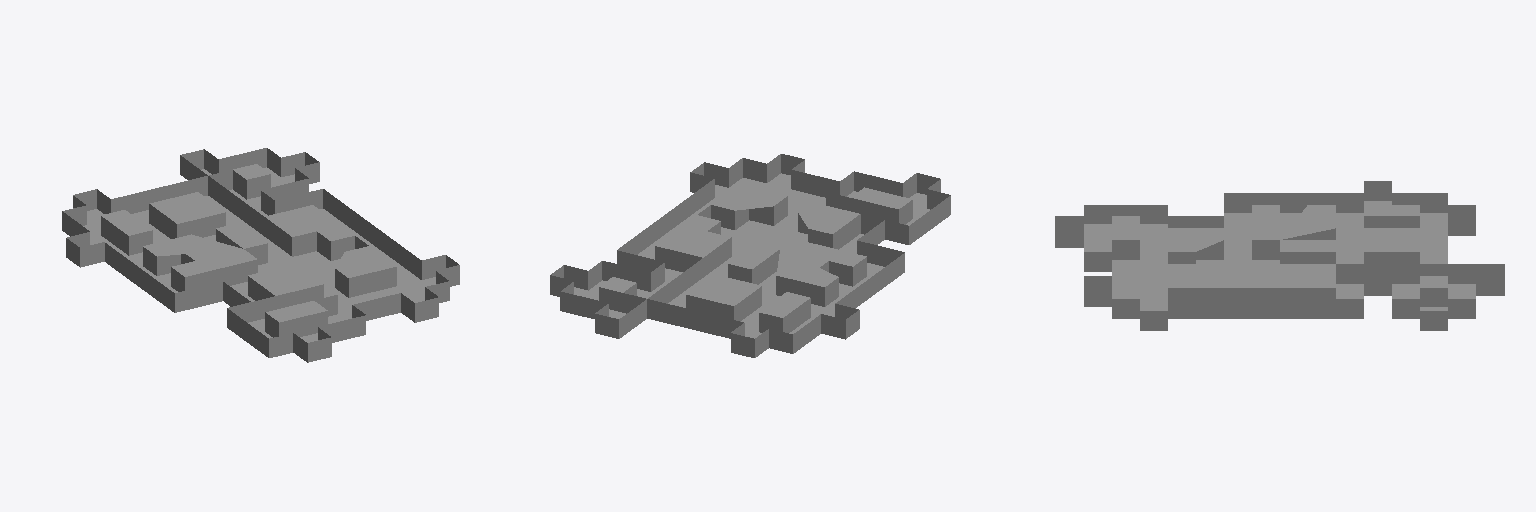
File: InteriorEnvironment.obj
3 renders of one model, left to right at view 1: azimuth 30°, elevation 25°; view 2: azimuth 150°, elevation 25°; view 3: azimuth 270°, elevation 25°, orthographic.
Parts seen in each view (by area): view 1: Plane; view 2: Plane; view 3: Plane.
Boxes of the visible parts, x1,y1,x2,y2 form: Plane: [62, 148, 459, 362]; Plane: [550, 154, 950, 357]; Plane: [1055, 181, 1504, 330].
Size of the model in its own units: 22 by 1.55 by 32.